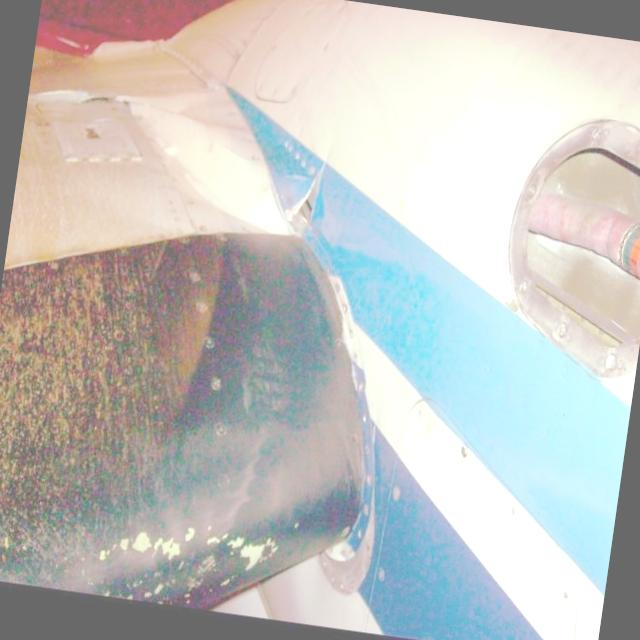crack: (286, 151, 335, 230)
